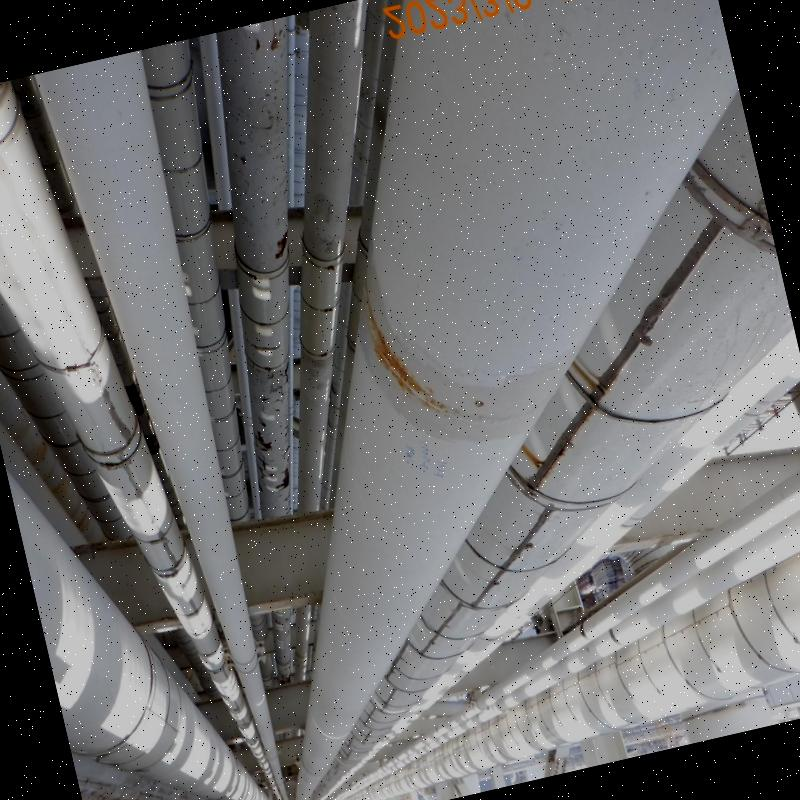corrosion: (371, 326, 417, 399)
